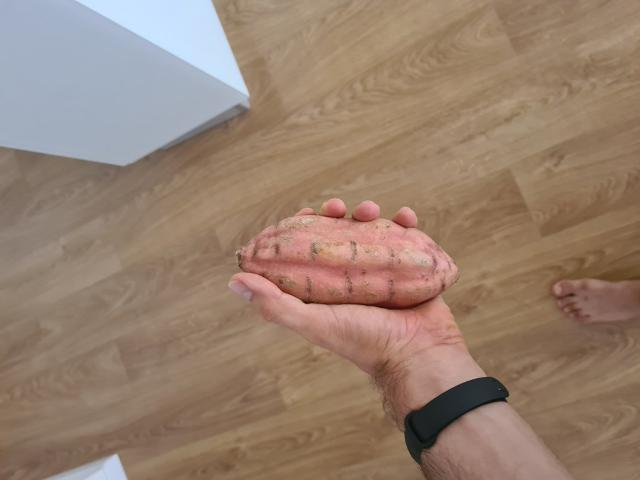sweet_potato: (234, 209, 461, 315)
